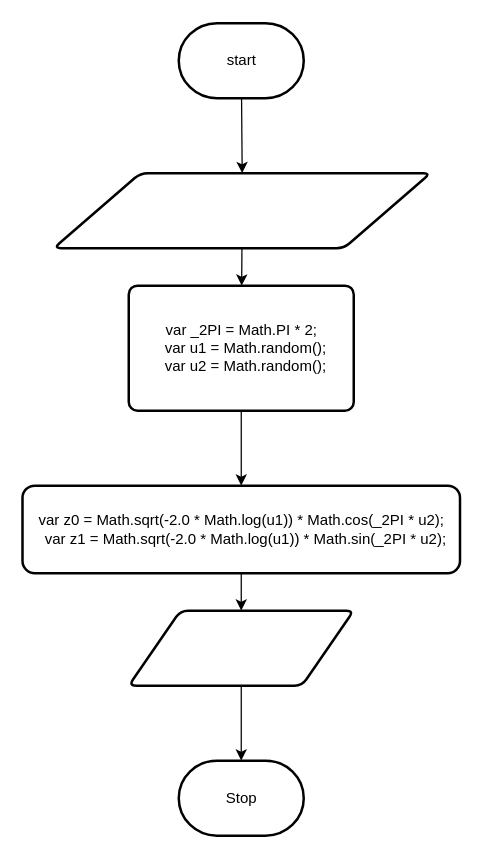
This 483x858 diagram has some shape labels left out. The box of each missing label's shape, as (x1, y1, x2, y2) in pixels:
get mean: number ,std: number: (52, 171, 431, 249)
return z0 * std + mean;: (127, 609, 354, 686)
